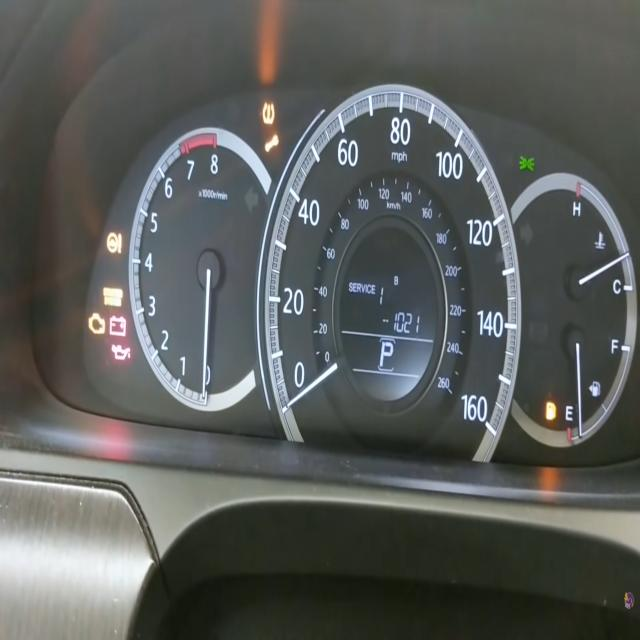Charging System Issue: (110, 315, 126, 337)
Check Engine: (88, 312, 105, 336)
Low Engine Oil Warning Light: (111, 343, 131, 361)
Low Tire Pressure Warning Light: (262, 102, 275, 125)
